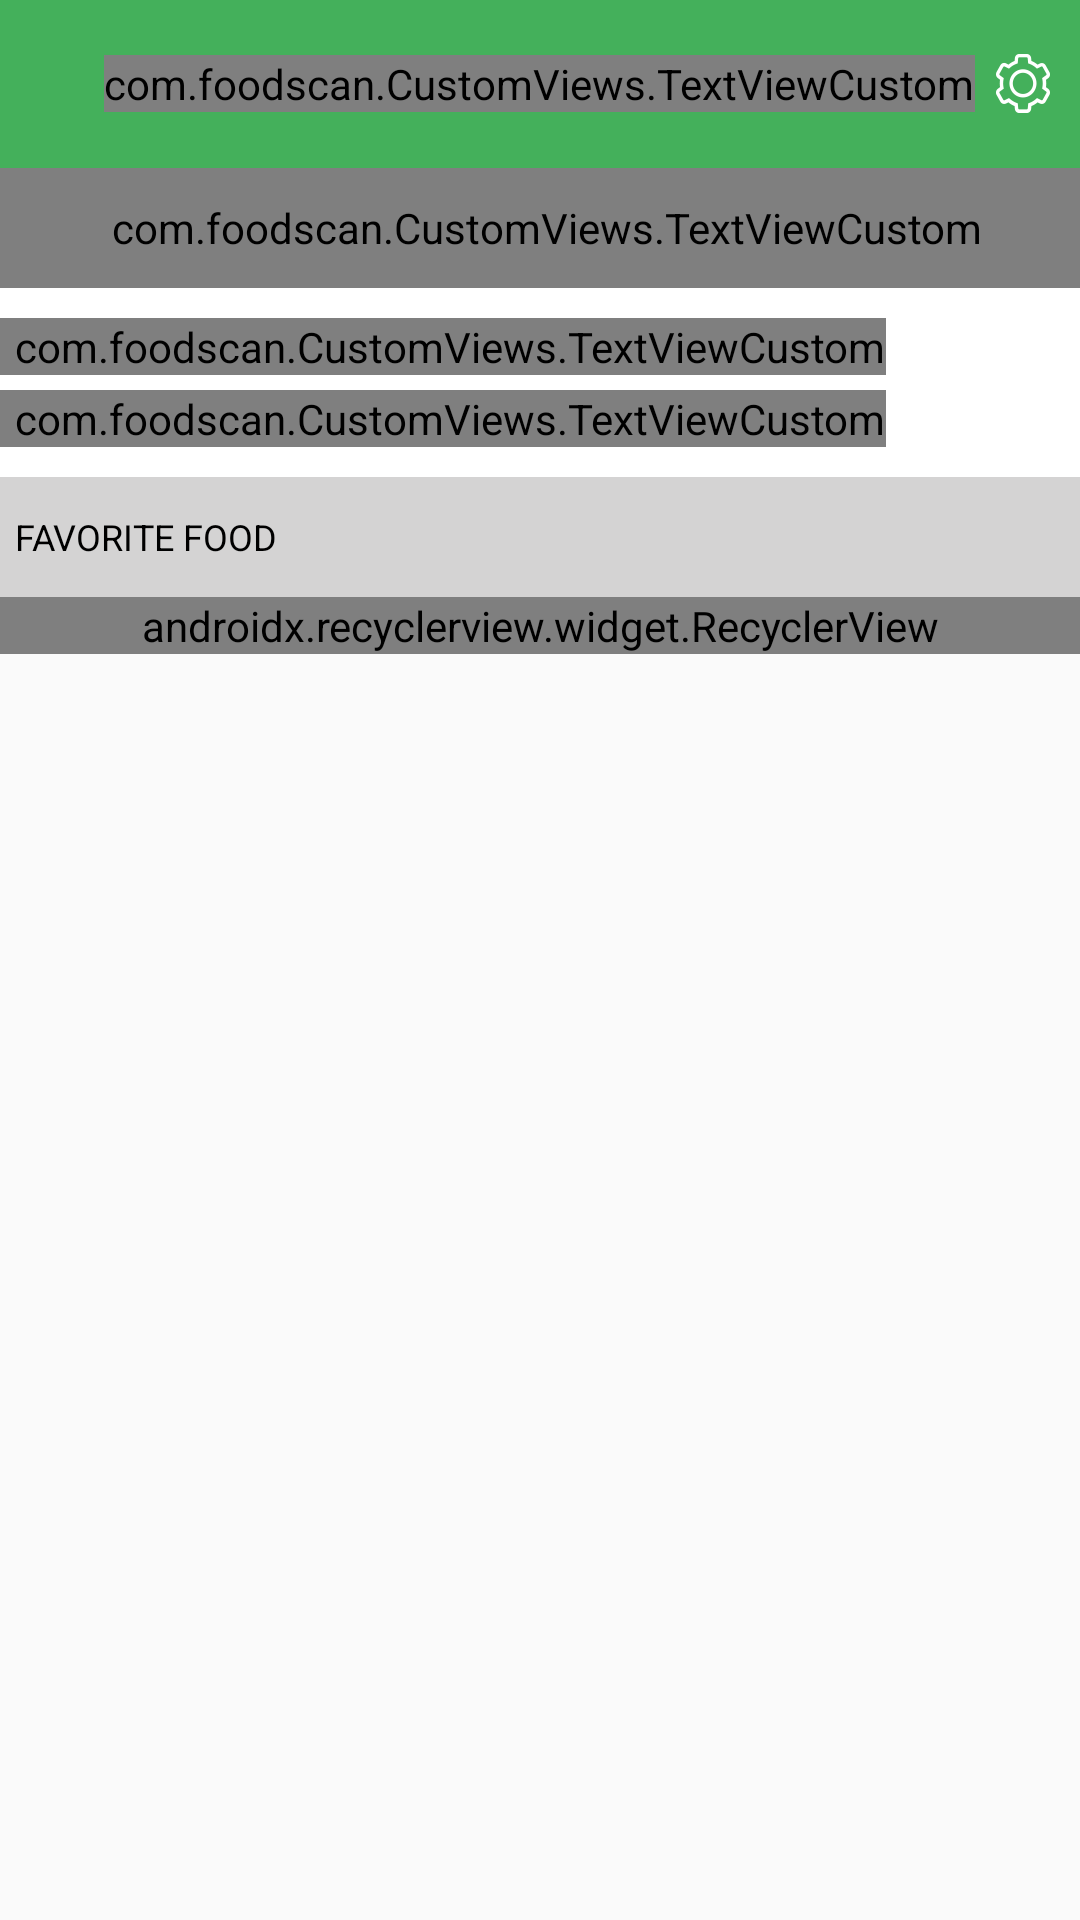

Named icons in this screenshot (1080 x 1920) and their centers, point (x, y):
settings: point (1023, 83)
